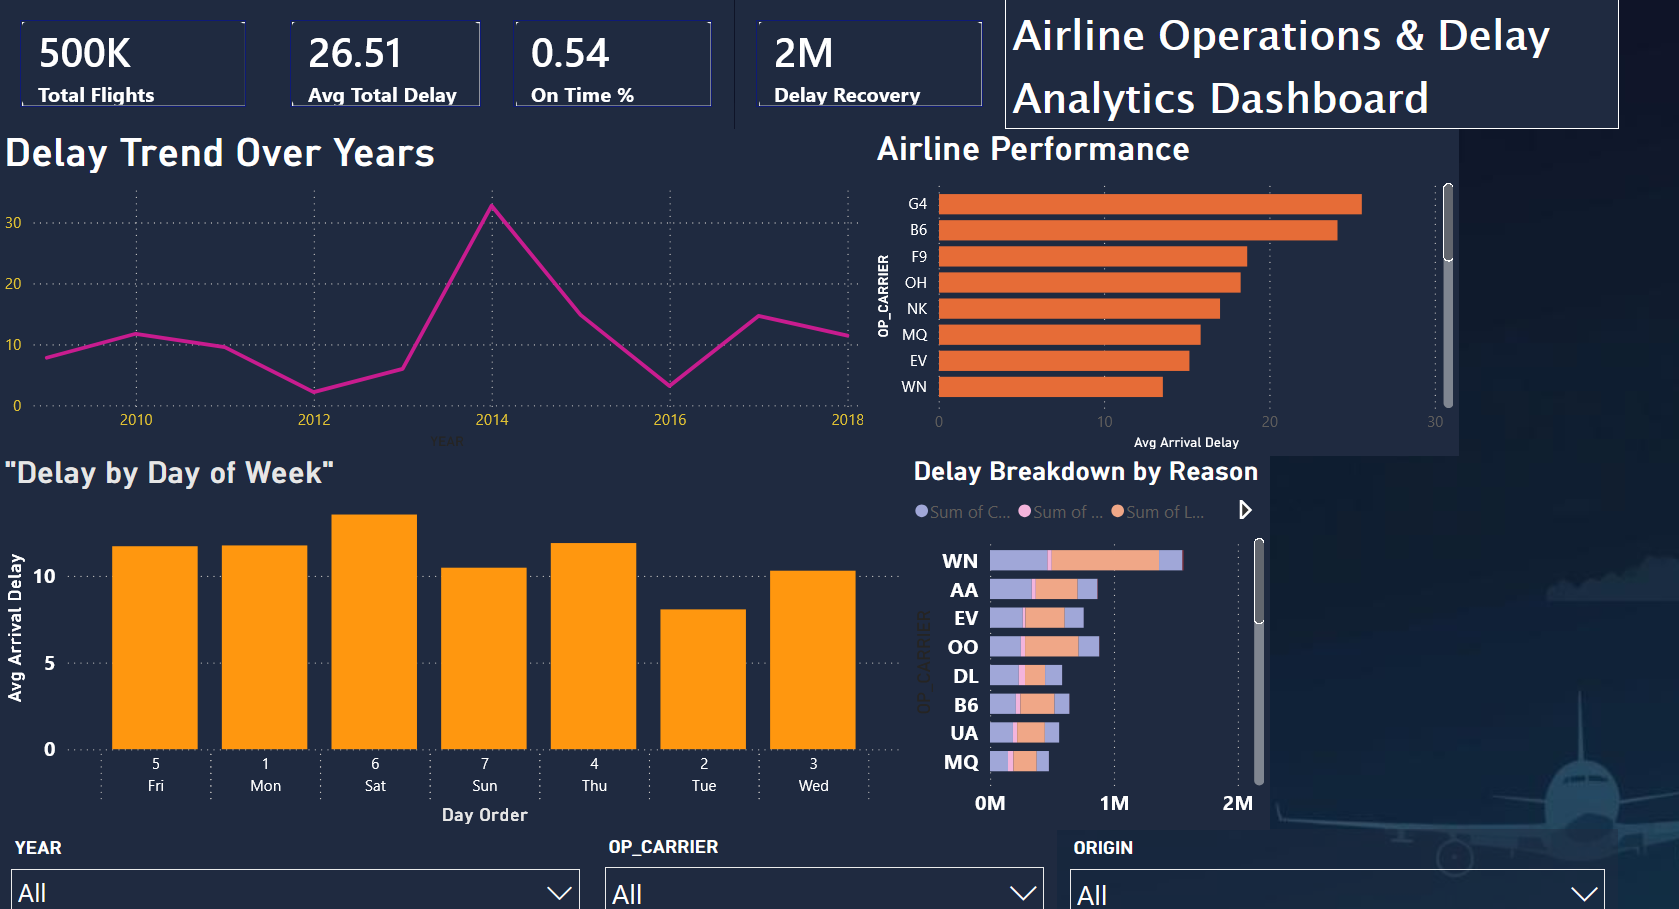

The dashboard page shown, as its layout file describes it:
{"tool":"powerbi","page":{"name":"Page 1","canvas":[1280,720],"ordinal":0},"visuals":[{"type":"lineChart","title":"Delay Trend Over Years","fields":{"Category":["final_flights.YEAR"],"Y":["final_flights.Avg Arrival Delay"]},"box":[0,103,688.1,256.7],"z":3000},{"type":"clusteredBarChart","title":"Airline Performance","fields":{"Category":["final_flights.OP_CARRIER"],"Y":["final_flights.Avg Arrival Delay"]},"box":[688.1,103,465.7,258.2],"z":4000},{"type":"clusteredColumnChart","title":"\"Delay by Day of Week\"","fields":{"Category":["final_flights.DAY_NAME","final_flights.Day Order"],"Y":["final_flights.Avg Arrival Delay"]},"box":[0,359.7,717.9,297],"z":5000},{"type":"barChart","title":"Delay Breakdown by Reason","fields":{"Category":["final_flights.OP_CARRIER"],"Y":["Sum(final_flights.CARRIER_DELAY)","Sum(final_flights.WEATHER_DELAY)","Sum(final_flights.LATE_AIRCRAFT_DELAY)","Sum(final_flights.NAS_DELAY)","Sum(final_flights.SECURITY_DELAY)"]},"box":[717.9,361.2,286.6,295.5],"z":6000},{"type":"slicer","fields":{"Values":["final_flights.YEAR"]},"box":[0,656.2,469.1,64.3],"z":7000},{"type":"slicer","fields":{"Values":["final_flights.OP_CARRIER"]},"box":[469.1,654.7,366.8,65.8],"z":8000},{"type":"slicer","fields":{"Values":["final_flights.ORIGIN"]},"box":[836,656.2,442.8,64.3],"z":9000},{"type":"cardVisual","fields":{"Data":["final_flights.Delay Recovery"]},"box":[581.7,0,213.3,103.3],"z":10000},{"type":"textbox","box":[795,0,485,103.3],"z":10002},{"type":"cardVisual","fields":{"Data":["final_flights.On Time %"]},"box":[390,0,191.7,103.3],"z":10003},{"type":"cardVisual","fields":{"Data":["final_flights.Avg Total Delay"]},"box":[213.3,0,185,103.3],"z":10004},{"type":"cardVisual","fields":{"Data":["final_flights.Total Flights"]},"box":[0,0,213.3,103.3],"z":10005}]}

Visuals, with their boxes on the page's 1280x720 design canvas (x1, y1, x2, y2). These are canvas units, not pixel positions in the 1679x909 screenshot, which may show the page scaled, cropped or inside an application window:
"Delay Trend Over Years" lineChart: select_region(0, 103, 688, 360)
"Airline Performance" clusteredBarChart: select_region(688, 103, 1154, 361)
""Delay by Day of Week"" clusteredColumnChart: select_region(0, 360, 718, 657)
"Delay Breakdown by Reason" barChart: select_region(718, 361, 1004, 657)
slicer - final_flights.YEAR: select_region(0, 656, 469, 720)
slicer - final_flights.OP_CARRIER: select_region(469, 655, 836, 720)
slicer - final_flights.ORIGIN: select_region(836, 656, 1279, 720)
cardVisual - final_flights.Delay Recovery: select_region(582, 0, 795, 103)
textbox: select_region(795, 0, 1280, 103)
cardVisual - final_flights.On Time %: select_region(390, 0, 582, 103)
cardVisual - final_flights.Avg Total Delay: select_region(213, 0, 398, 103)
cardVisual - final_flights.Total Flights: select_region(0, 0, 213, 103)
